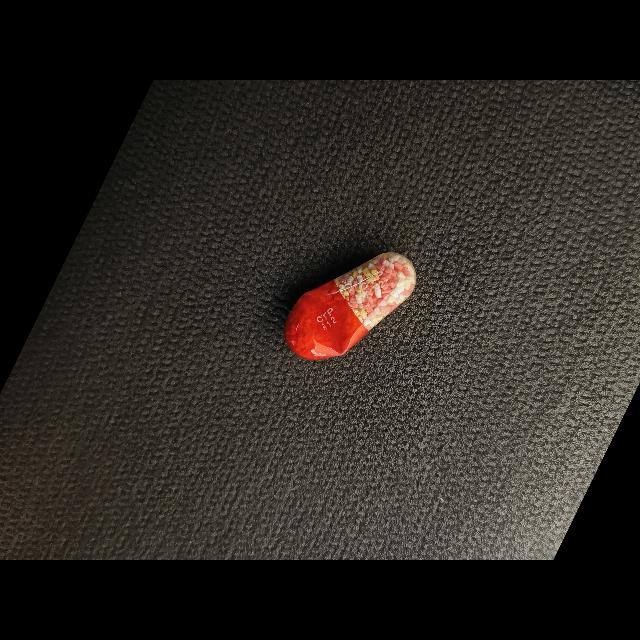Defective Capsule: (285, 252, 417, 360)
